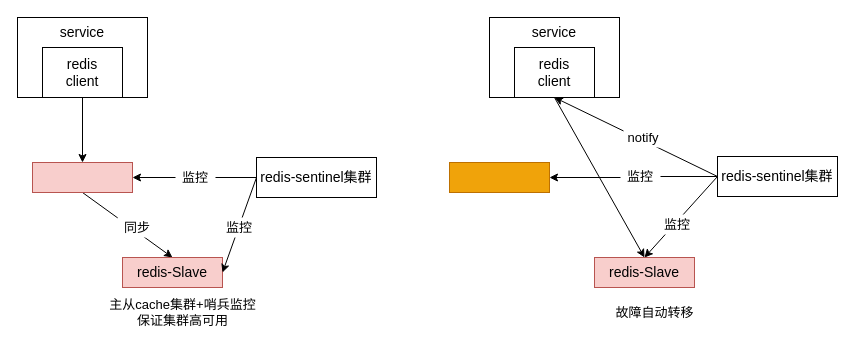
Image size: 855x345. Some labels were removed from this diagram. Here are the shapes that lost their labels. From the top down, the centre of each, then its label:
At [82,177]: "redis-Master".
At [499,177]: "挂了".
